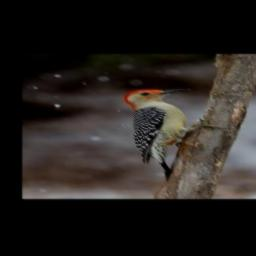Woodpecker: (124, 88, 230, 180)
